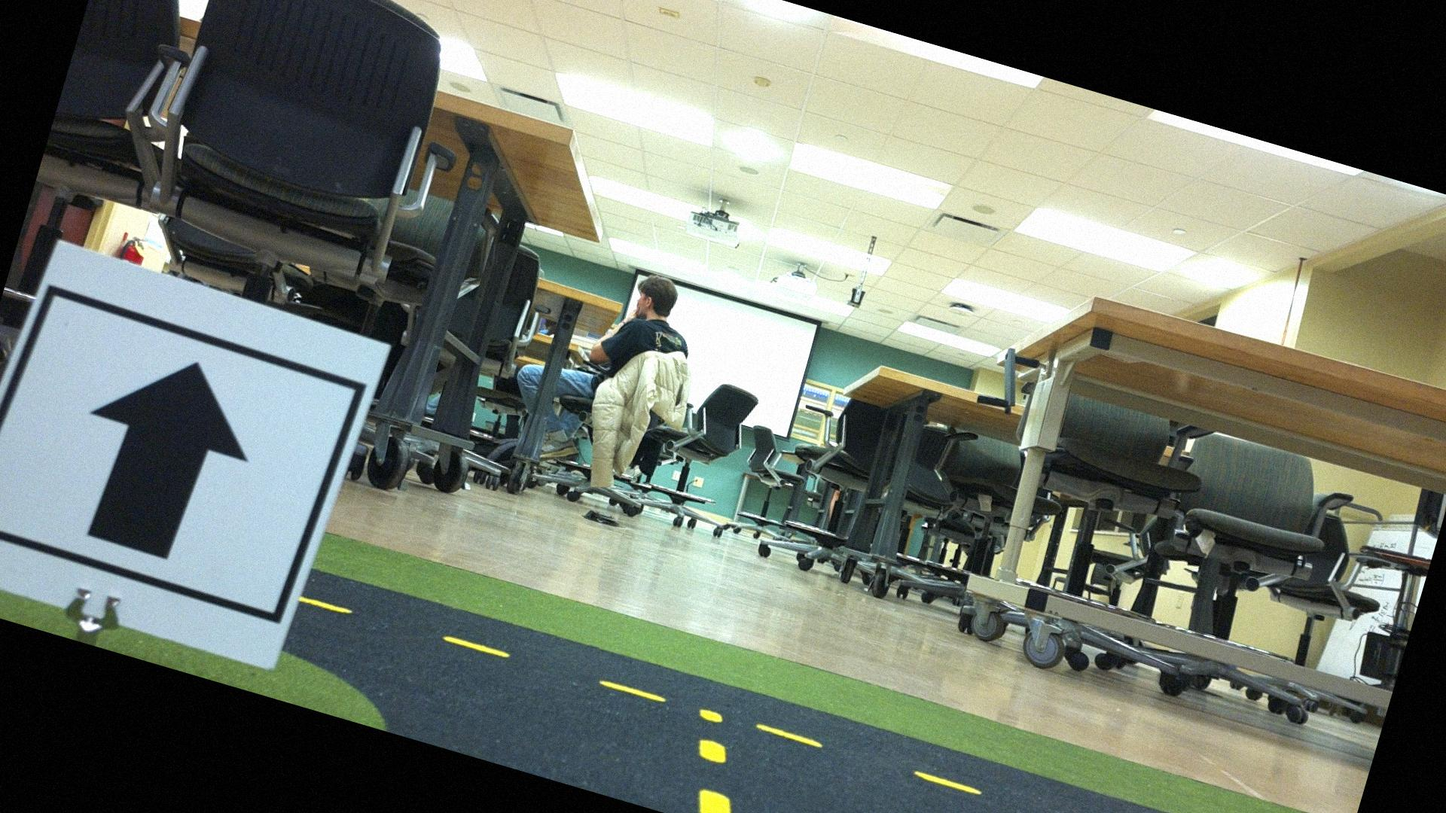gostraight: (0, 242, 370, 667)
yellowline: (297, 590, 1334, 812), (670, 701, 761, 812)
